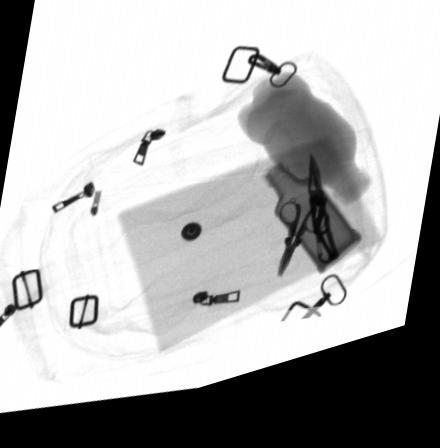Knife: (306, 170, 337, 285)
Scissors: (278, 217, 329, 295)
